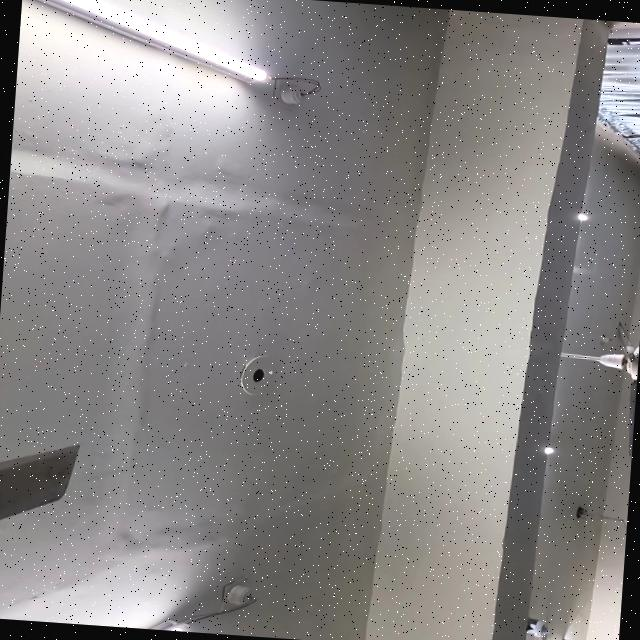Light: (40, 0, 270, 81), (543, 445, 555, 453), (577, 212, 588, 220)
